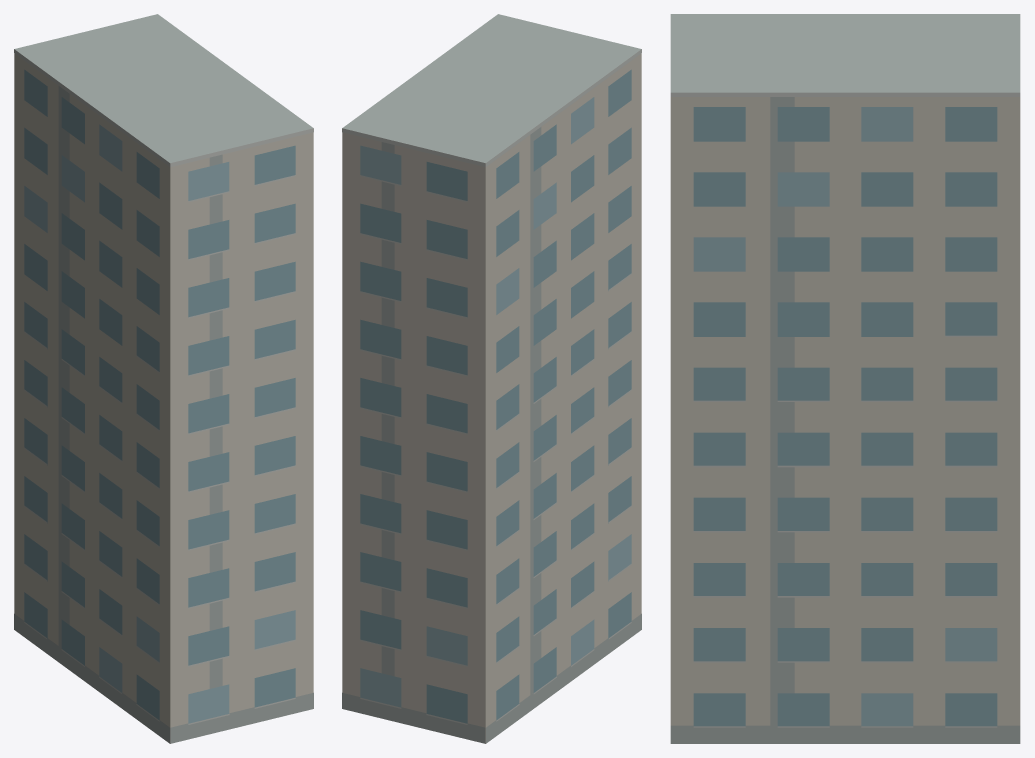
The model's file is residential-aa45a446-ea97-4bb6-8c31-c82320ef658f.glb.
3 views of the same model, side by side, from view 1: azimuth 30°, elevation 25°; view 2: azimuth 150°, elevation 25°; view 3: azimuth 270°, elevation 25° (orthographic). The views are drawn at different scales.
Parts seen in each view (by area): view 1: residential-aa45a446-ea97-4bb6-8c31-c82320ef658f.tmp; view 2: residential-aa45a446-ea97-4bb6-8c31-c82320ef658f.tmp; view 3: residential-aa45a446-ea97-4bb6-8c31-c82320ef658f.tmp.
Boxes of the visible parts, x1=… form: residential-aa45a446-ea97-4bb6-8c31-c82320ef658f.tmp: x1=14, y1=14, x2=313, y2=743; residential-aa45a446-ea97-4bb6-8c31-c82320ef658f.tmp: x1=342, y1=14, x2=641, y2=743; residential-aa45a446-ea97-4bb6-8c31-c82320ef658f.tmp: x1=670, y1=14, x2=1020, y2=743.
Bounding box in the file's own units: 9.09 × 35 × 17.07.
